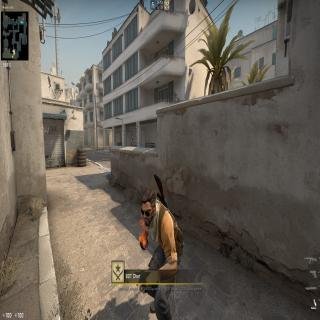T-Head: (140, 188, 158, 227)
